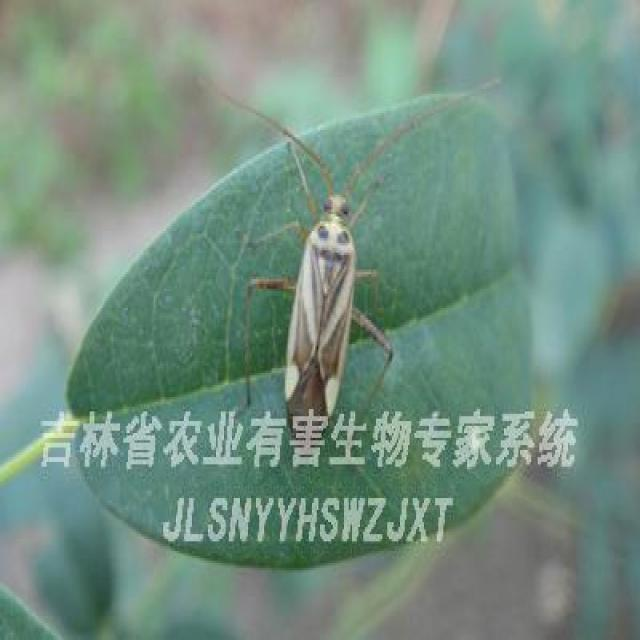Miridae-Adult-: (213, 88, 401, 445)
